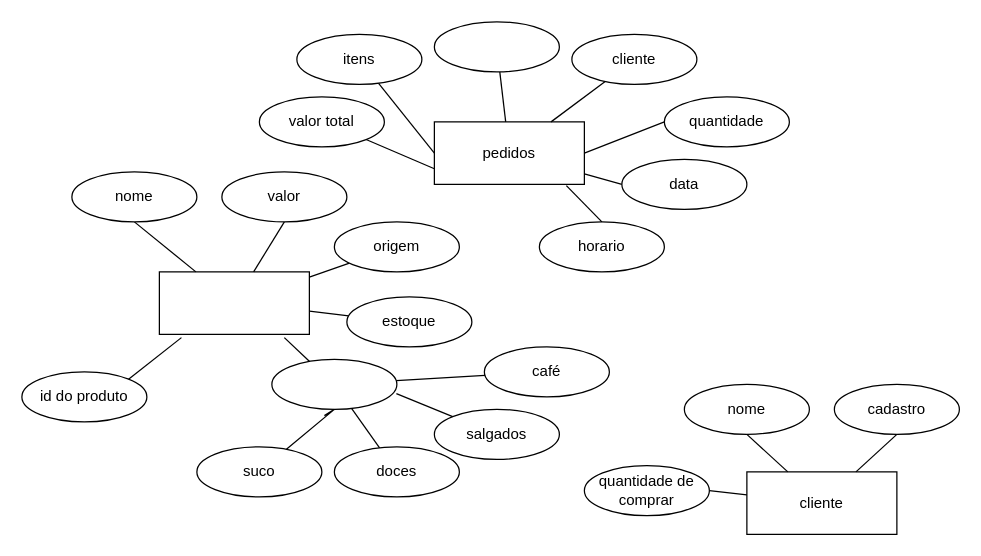
This 981x556 diagram has some shape labels left out. Each missing label, with the centre of its shape:
"produtos" belongs at (233,302).
"tempo de espera" belongs at (496,46).
"tipos de produtos" belongs at (334,383).
